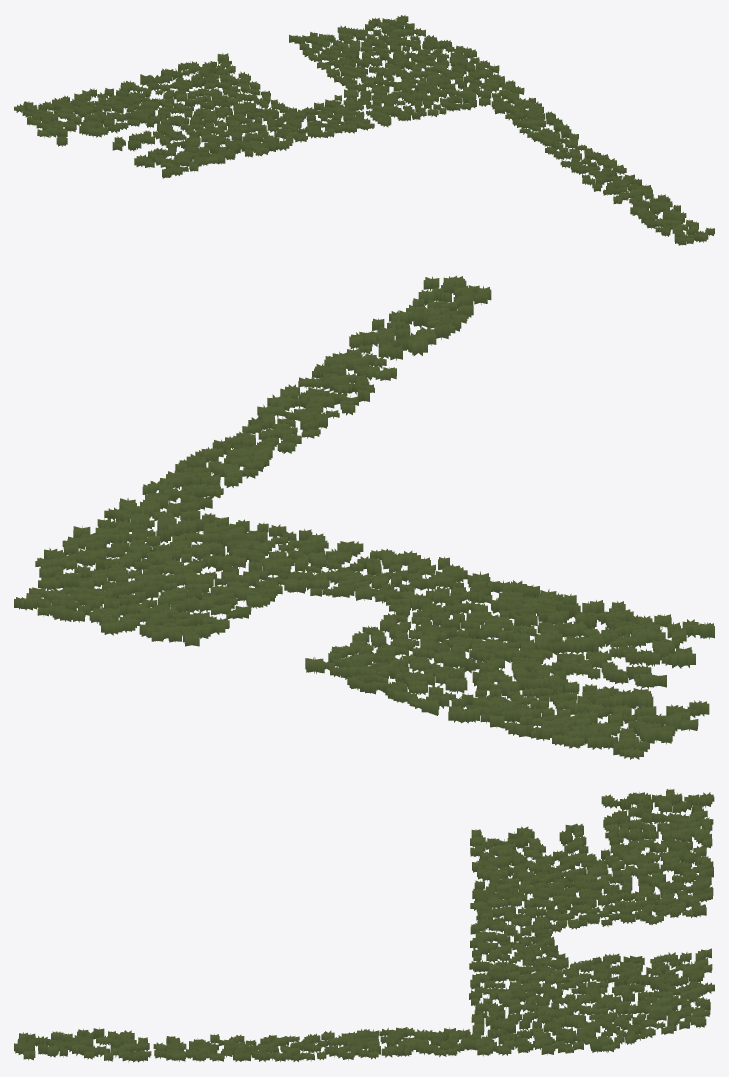
Rendered from TRB8-GRASS-CHUNK-1-5.glb.
3 renders of one model, top to bottom at view 1: azimuth 30°, elevation 25°; view 2: azimuth 150°, elevation 25°; view 3: azimuth 270°, elevation 25°, orthographic. The views are drawn at different scales.
Parts seen in each view (by area): view 1: TRB8-GRASS-CHUNK-1-5; view 2: TRB8-GRASS-CHUNK-1-5; view 3: TRB8-GRASS-CHUNK-1-5.
Part boxes in pixels (<box>): TRB8-GRASS-CHUNK-1-5: <box>14,15,714,245</box>; TRB8-GRASS-CHUNK-1-5: <box>14,275,714,759</box>; TRB8-GRASS-CHUNK-1-5: <box>14,789,714,1062</box>.
Bounding box in the file's own units: 25.57 × 1.75 × 30.54.
1 material, 1 textured.
